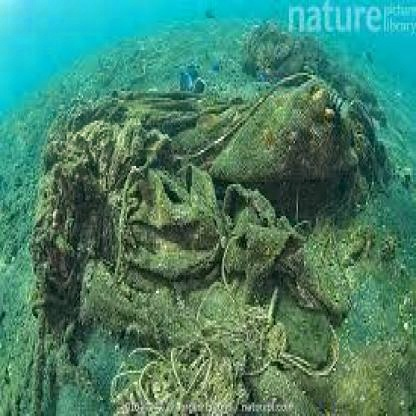net: (100, 286, 354, 416)
